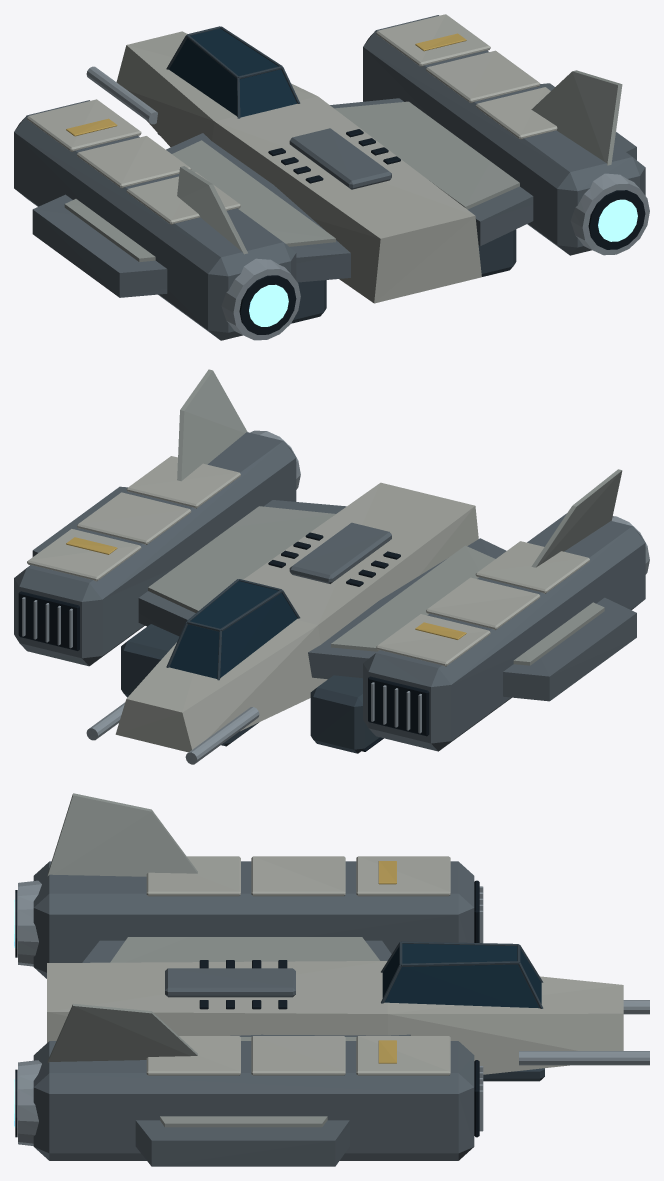
Rendered from atlas_fleet_a.glb.
3 views of the same model, one above another, from view 1: azimuth 30°, elevation 25°; view 2: azimuth 150°, elevation 25°; view 3: azimuth 270°, elevation 25° (orthographic). The views are drawn at different scales.
Parts seen in each view (by area): view 1: SB8_Atlas_Flotte_A; view 2: SB8_Atlas_Flotte_A; view 3: SB8_Atlas_Flotte_A.
Boxes of the visible parts, x1,y1,x2,y2 form: SB8_Atlas_Flotte_A: [14, 14, 649, 340]; SB8_Atlas_Flotte_A: [14, 369, 649, 764]; SB8_Atlas_Flotte_A: [14, 793, 649, 1166].
Bounding box in the file's own units: 24 × 8.19 × 24.25.
